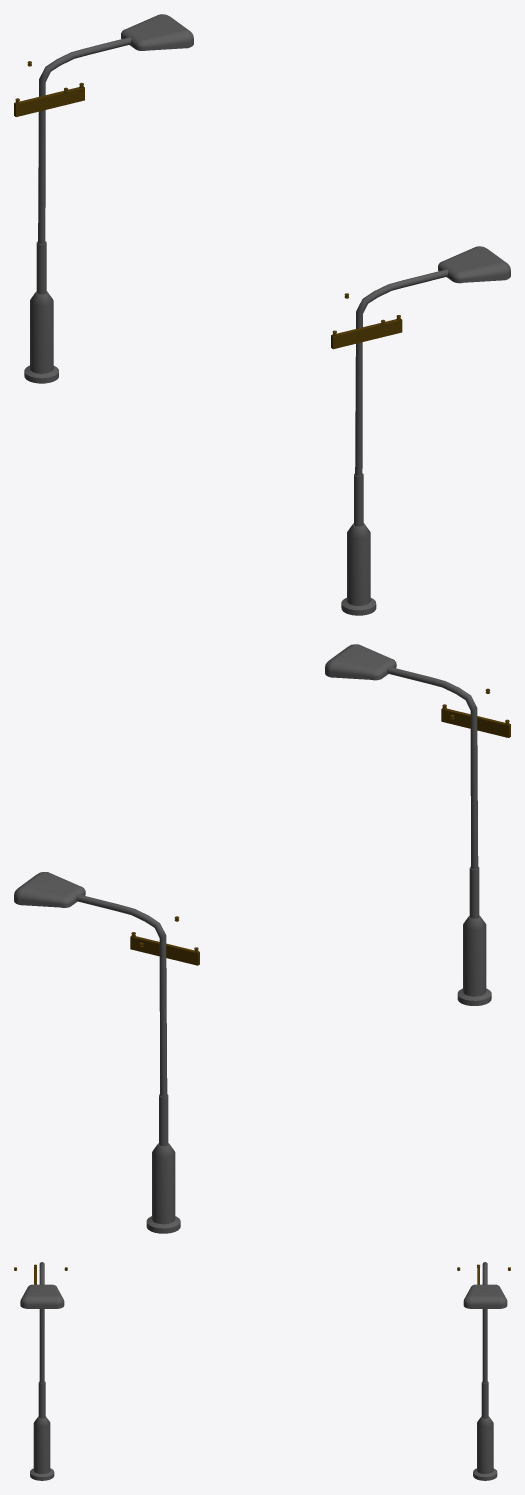
Rendered from poteau.fbx.
3 views of the same model, one above another, from view 1: azimuth 30°, elevation 25°; view 2: azimuth 150°, elevation 25°; view 3: azimuth 270°, elevation 25° (orthographic). The views are drawn at different scales.
Parts seen in each view (by area): view 1: pCylinder10; view 2: pCylinder10; view 3: pCylinder10.
Boxes of the visible parts, x1=… form: pCylinder10: x1=14, y1=14, x2=510, y2=615; pCylinder10: x1=14, y1=644, x2=510, y2=1233; pCylinder10: x1=14, y1=1262, x2=510, y2=1480.
Size of the model in its own units: 4.23 by 7.54 by 15.12.
